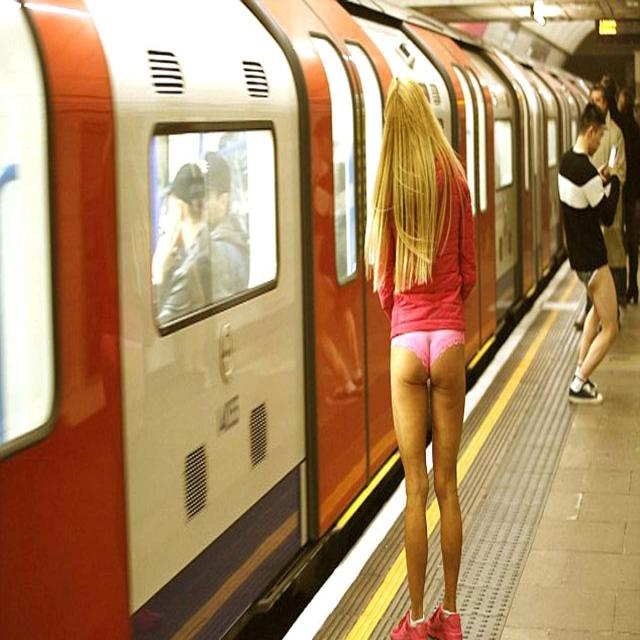body: (363, 68, 481, 639), (555, 96, 623, 407), (572, 84, 628, 334), (592, 63, 638, 305), (151, 163, 211, 327), (201, 150, 251, 304), (326, 132, 350, 282), (219, 128, 249, 236), (152, 146, 170, 247)
